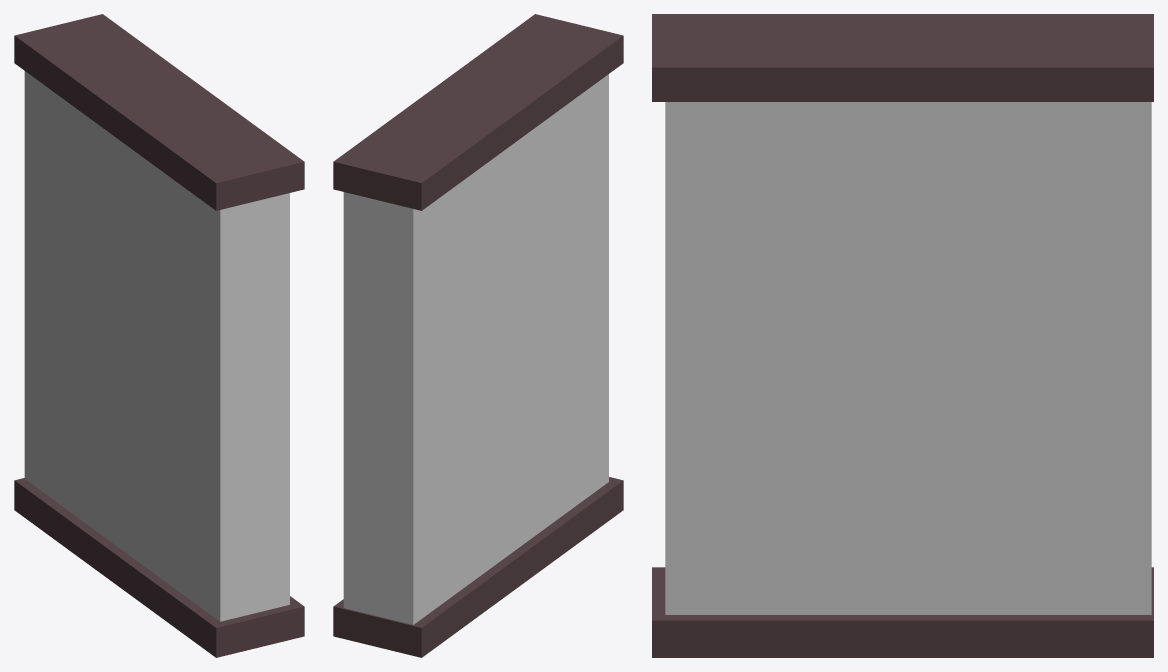
File: 机关门.fbx
3 renders of one model, left to right at view 1: azimuth 30°, elevation 25°; view 2: azimuth 150°, elevation 25°; view 3: azimuth 270°, elevation 25°, orthographic. The views are drawn at different scales.
Visible parts, largest first — view 1: Cube.051; view 2: Cube.051; view 3: Cube.051.
Boxes of the visible parts, x1,y1,x2,y2 form: Cube.051: (14, 14, 304, 657); Cube.051: (333, 14, 623, 657); Cube.051: (652, 14, 1153, 657).
Size of the model in its own units: 29.36 by 151 by 116.
